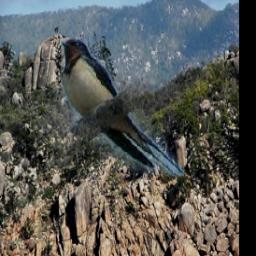Swallow: (61, 39, 184, 176)
